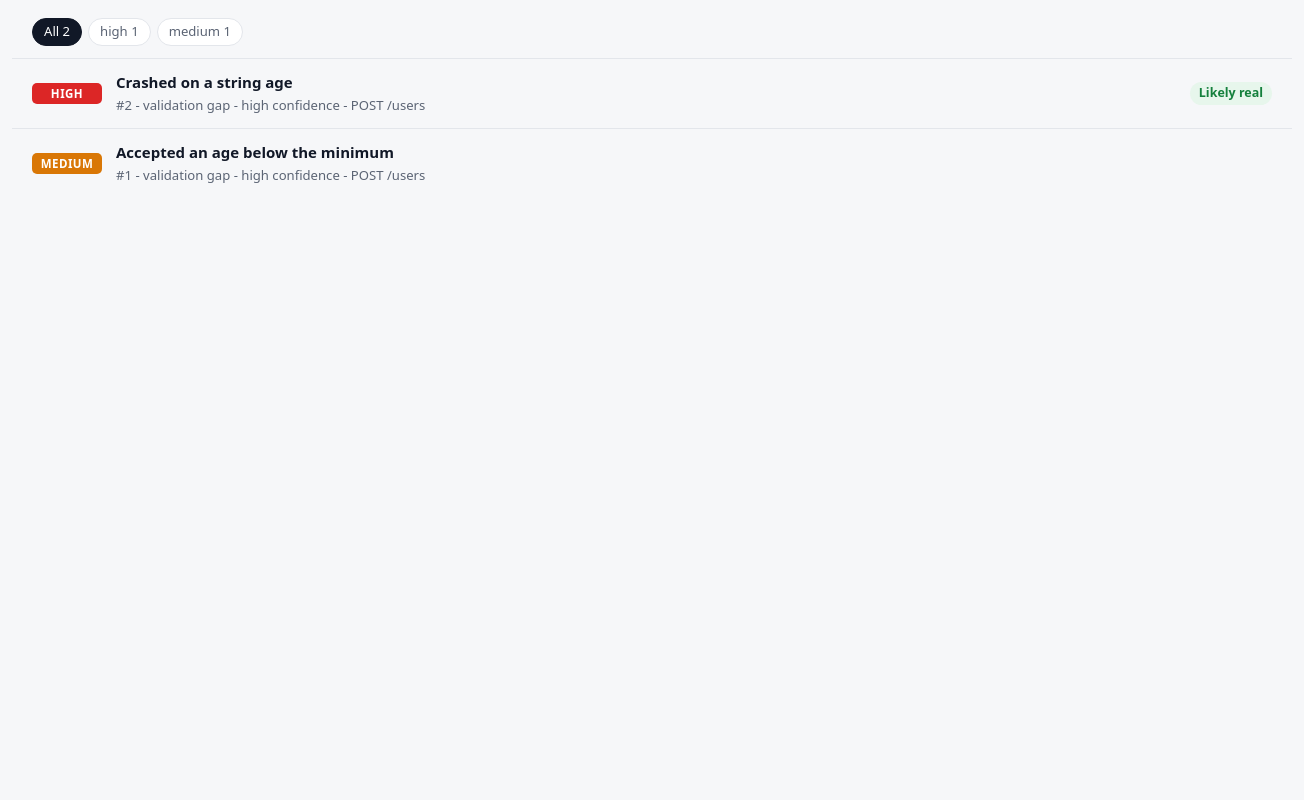
FindingsList › shows the evidence and the AI assessment when opened
Check: the text "Likely real" is shown, box [1190, 82, 1272, 105]
Click the button "Crashed on a string age" at x=67, y=93, box [12, 59, 1292, 128]
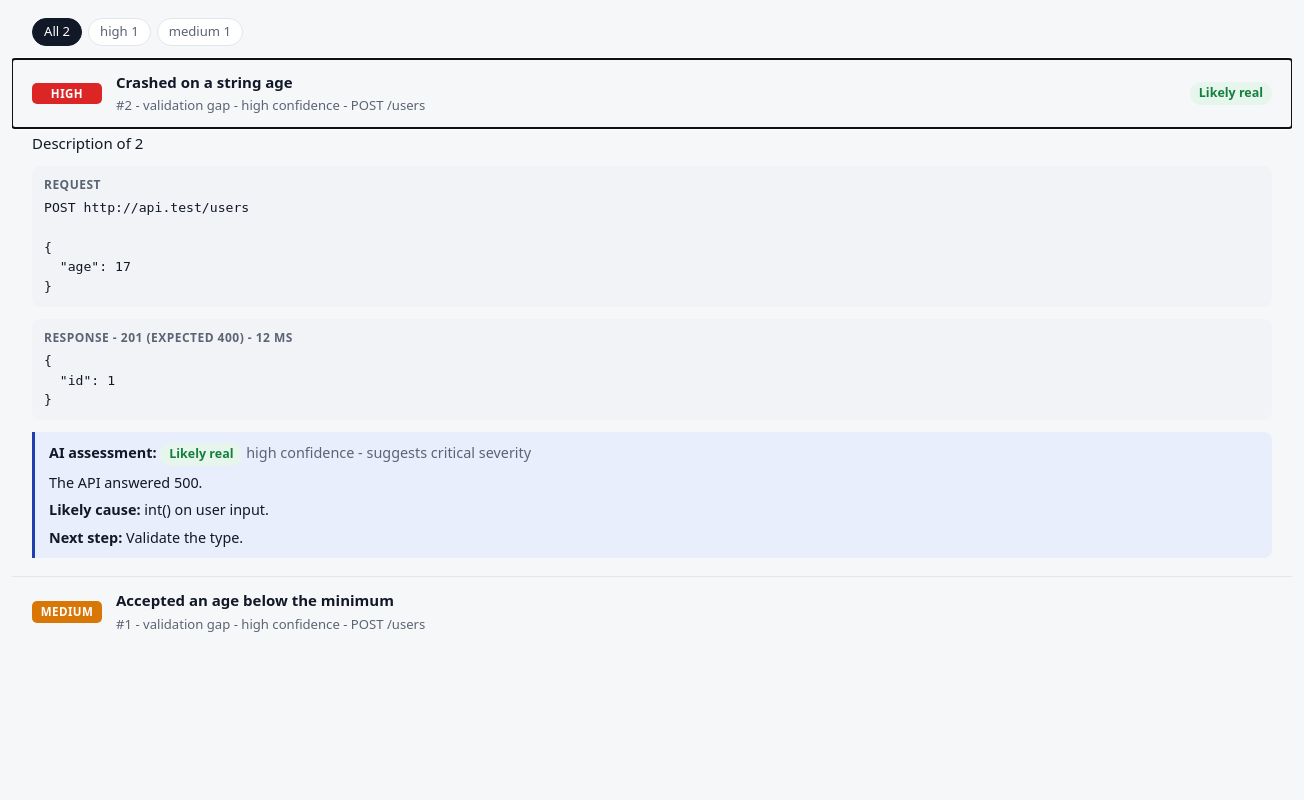
Check: the text "Response - 201 (expected 400) - 12 ms" is shown, box [44, 329, 293, 346]
Check: the text "The API answered 500." is shown, box [49, 473, 202, 492]
Check: the text "- suggests critical severity" is shown, box [354, 443, 531, 462]
